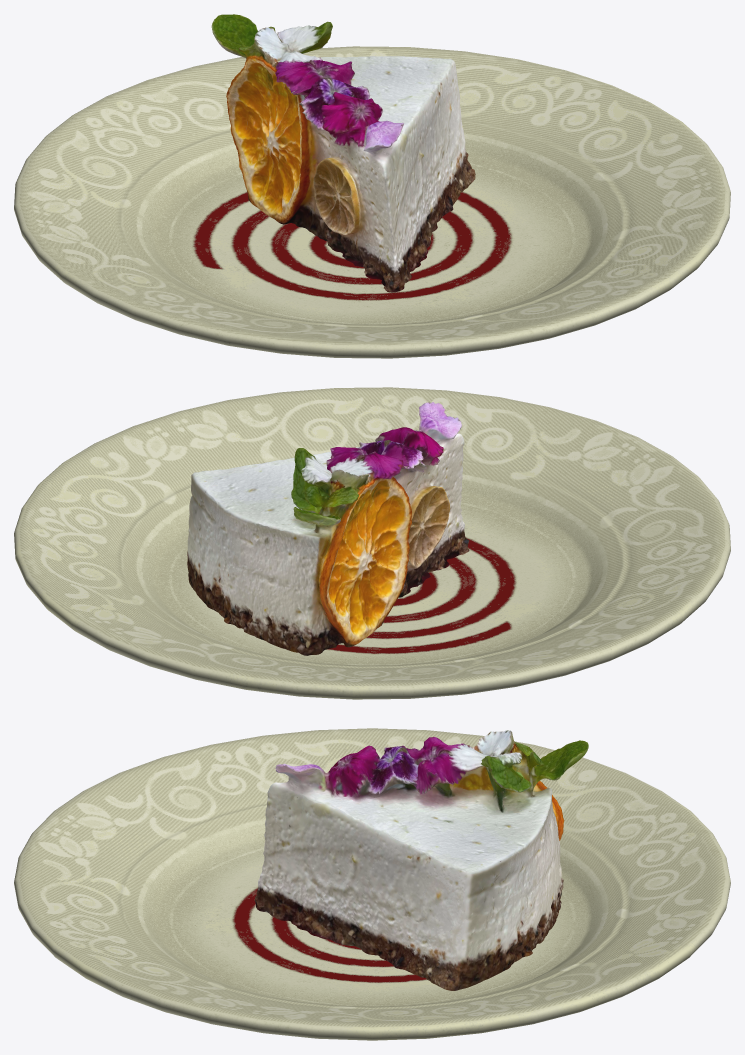
The model's file is Citrus_cheese_cake.glb.
3 views of the same model, one above another, from view 1: azimuth 30°, elevation 25°; view 2: azimuth 150°, elevation 25°; view 3: azimuth 270°, elevation 25° (orthographic).
Parts seen in each view (by area): view 1: Turkish_Fig_and_Rhubarb_Tart_plate, pCube2; view 2: Turkish_Fig_and_Rhubarb_Tart_plate, pCube2; view 3: Turkish_Fig_and_Rhubarb_Tart_plate, pCube2.
Part boxes in pixels (box(x1,y1,x2,y2)): Turkish_Fig_and_Rhubarb_Tart_plate: box(14, 46, 730, 358); pCube2: box(211, 14, 475, 292); Turkish_Fig_and_Rhubarb_Tart_plate: box(14, 387, 730, 699); pCube2: box(187, 402, 469, 655); Turkish_Fig_and_Rhubarb_Tart_plate: box(14, 728, 730, 1040); pCube2: box(254, 730, 588, 990).
Size of the model in its own units: 0.2578 by 0.0714 by 0.2576.
Materials: 2 (2 with a texture image).
